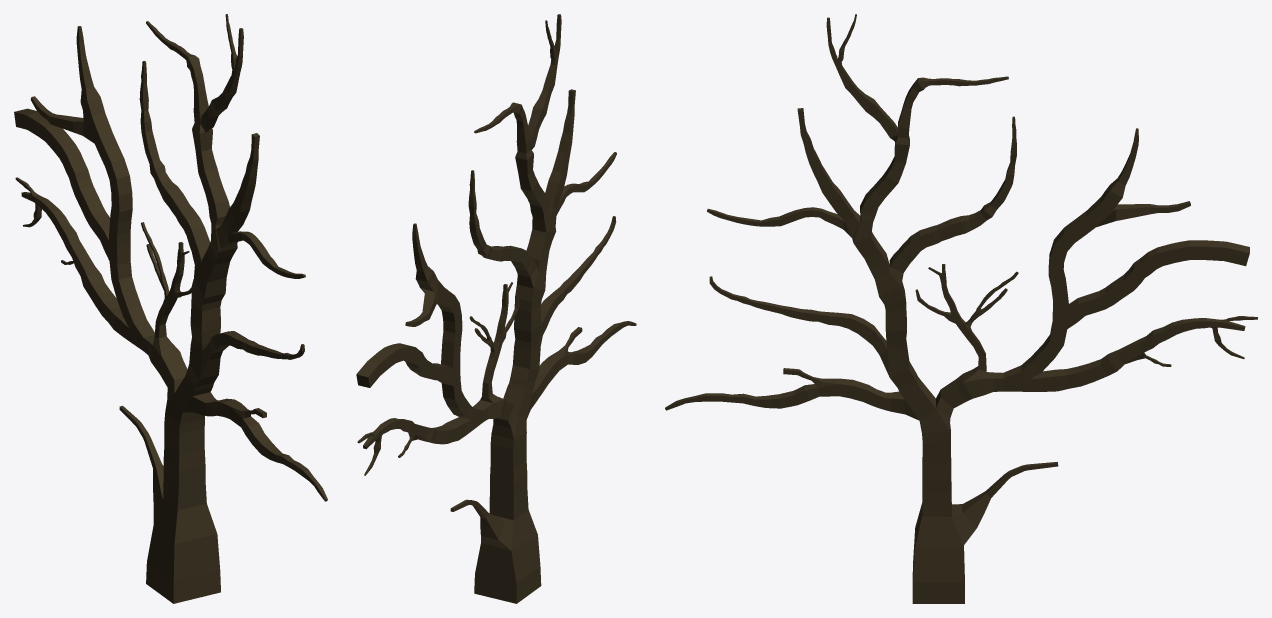
File: arvoresemfolhas2.fbx
The picture shows the model from 3 angles, left to right: view 1: azimuth 30°, elevation 25°; view 2: azimuth 150°, elevation 25°; view 3: azimuth 270°, elevation 25°; orthographic projection. The views are drawn at different scales.
Visible parts, largest first — view 1: Plano.001; view 2: Plano.001; view 3: Plano.001.
Boxes of the visible parts, <box> form: Plano.001: <box>14,14,327,603</box>; Plano.001: <box>356,14,636,603</box>; Plano.001: <box>665,14,1257,603</box>.
Bounding box in the file's own units: 36.8 × 447 × 415.
